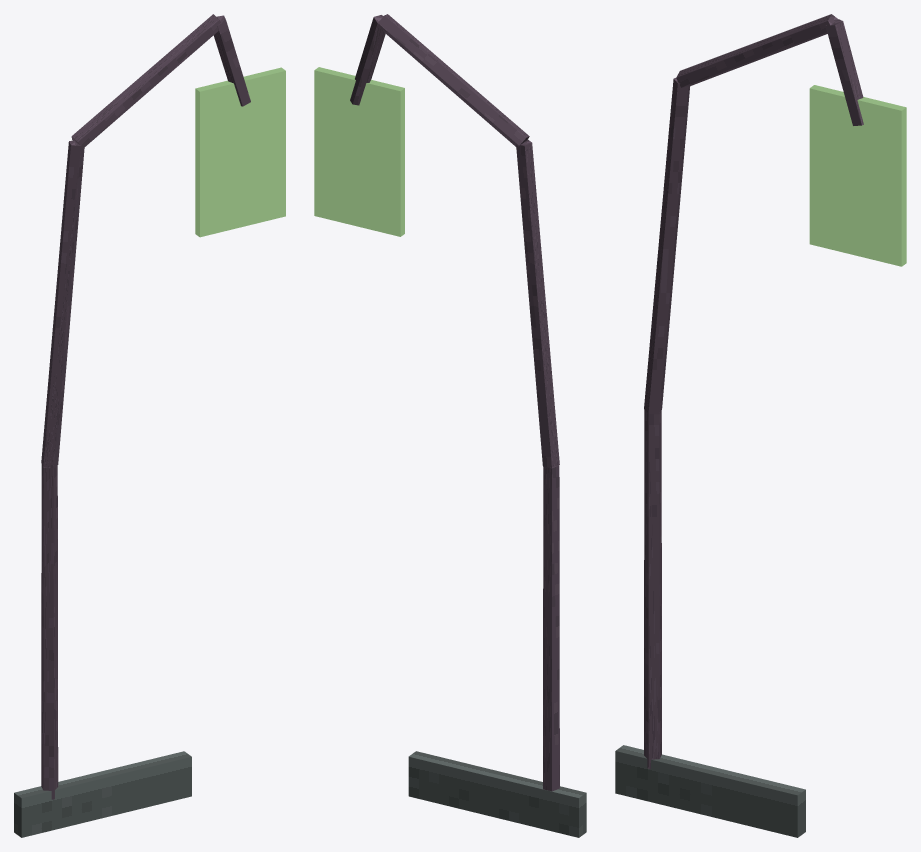
File: f_exodii_lamp_string_warped.glb
3 views of the same model, side by side, from view 1: azimuth 30°, elevation 25°; view 2: azimuth 150°, elevation 25°; view 3: azimuth 330°, elevation 25° (orthographic). The views are drawn at different scales.
Visible parts, largest first — view 1: block_two-dimensional-glowing-bulb, block_flattened-lamp-foot, block_curved-grown-metal-standard-2, block_curved-grown-metal-standard-1, block_curved-grown-metal-standard-3, block_curved-grown-metal-standard-4; view 2: block_two-dimensional-glowing-bulb, block_flattened-lamp-foot, block_curved-grown-metal-standard-2, block_curved-grown-metal-standard-1, block_curved-grown-metal-standard-3, block_curved-grown-metal-standard-4; view 3: block_two-dimensional-glowing-bulb, block_flattened-lamp-foot, block_curved-grown-metal-standard-1, block_curved-grown-metal-standard-2, block_curved-grown-metal-standard-3, block_curved-grown-metal-standard-4.
Boxes of the visible parts, x1=… form: block_two-dimensional-glowing-bulb: x1=195, y1=67, x2=285, y2=237; block_flattened-lamp-foot: x1=14, y1=751, x2=191, y2=837; block_curved-grown-metal-standard-2: x1=41, y1=140, x2=84, y2=468; block_curved-grown-metal-standard-1: x1=41, y1=464, x2=58, y2=799; block_curved-grown-metal-standard-3: x1=71, y1=14, x2=221, y2=148; block_curved-grown-metal-standard-4: x1=213, y1=15, x2=250, y2=106; block_two-dimensional-glowing-bulb: x1=314, y1=67, x2=404, y2=236; block_flattened-lamp-foot: x1=408, y1=751, x2=586, y2=837; block_curved-grown-metal-standard-2: x1=516, y1=139, x2=559, y2=467; block_curved-grown-metal-standard-1: x1=543, y1=465, x2=559, y2=791; block_curved-grown-metal-standard-3: x1=378, y1=14, x2=529, y2=146; block_curved-grown-metal-standard-4: x1=350, y1=15, x2=385, y2=105; block_two-dimensional-glowing-bulb: x1=809, y1=85, x2=906, y2=266; block_flattened-lamp-foot: x1=615, y1=745, x2=805, y2=837; block_curved-grown-metal-standard-1: x1=644, y1=410, x2=661, y2=768; block_curved-grown-metal-standard-2: x1=644, y1=78, x2=689, y2=414; block_curved-grown-metal-standard-3: x1=676, y1=14, x2=838, y2=87; block_curved-grown-metal-standard-4: x1=825, y1=19, x2=863, y2=125.
Size of the model in its own units: 0.5465 by 1.52 by 0.032.
Materials: 2 (2 with a texture image).
